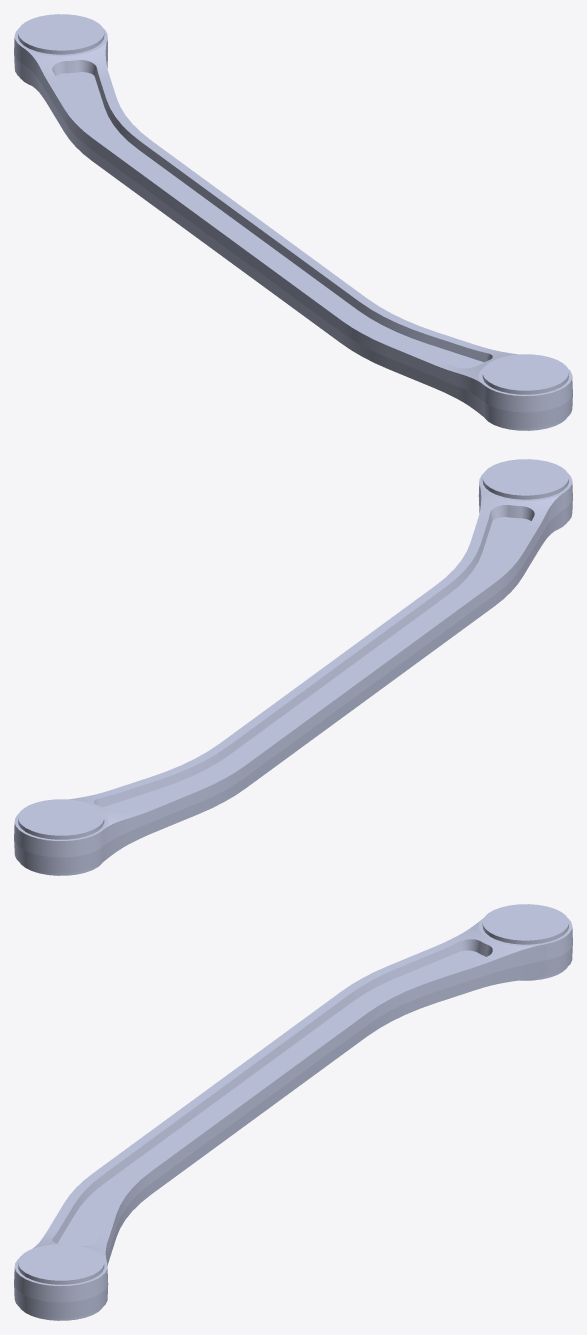
File: IRB460_LOWER_LINK.glb
3 renders of one model, top to bottom at view 1: azimuth 30°, elevation 25°; view 2: azimuth 150°, elevation 25°; view 3: azimuth 330°, elevation 25°, orthographic.
Visible parts, largest first — view 1: IRB460_LOWER_LINK; view 2: IRB460_LOWER_LINK; view 3: IRB460_LOWER_LINK.
Part boxes in pixels (x1,y1,x2,y2): IRB460_LOWER_LINK: (14,14,572,430); IRB460_LOWER_LINK: (14,459,572,875); IRB460_LOWER_LINK: (14,904,572,1320).
Size of the model in its own units: 0.138 by 0.045 by 1.04.
